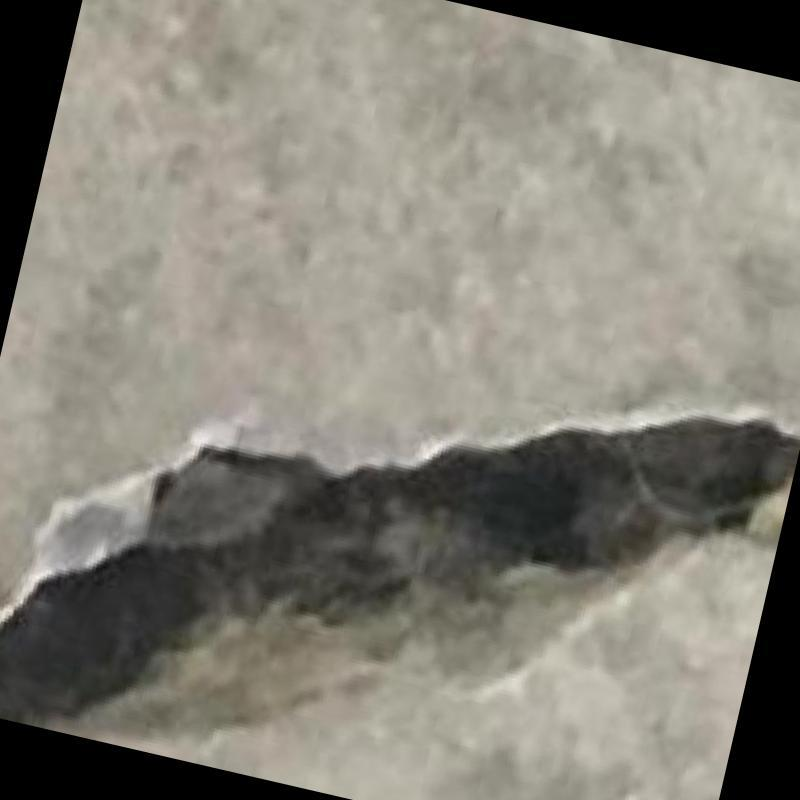pothole: (0, 417, 800, 722)
